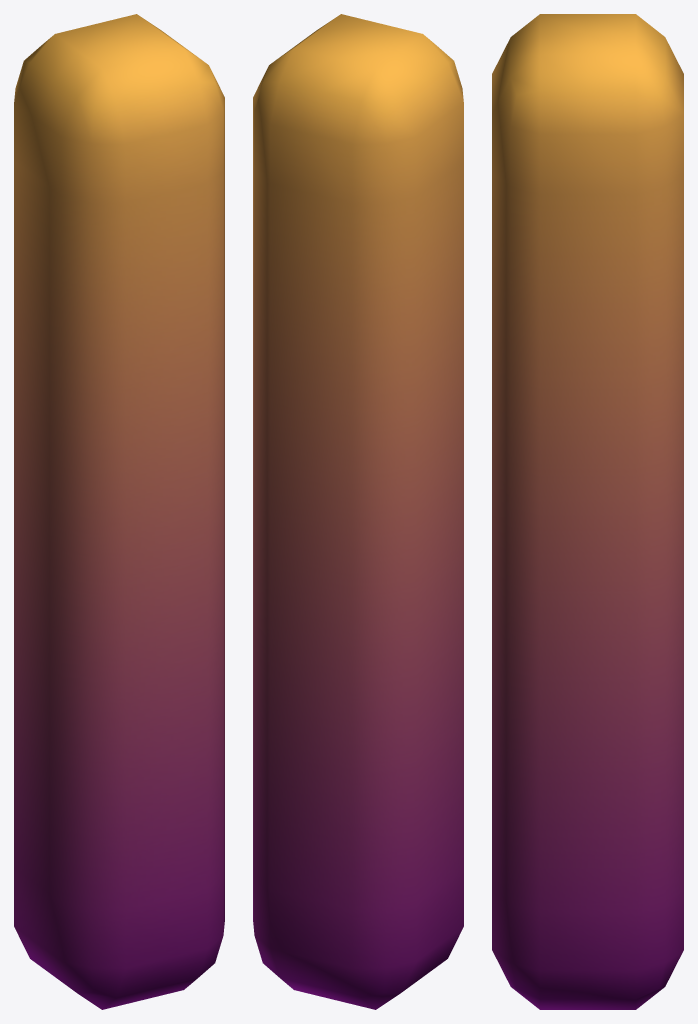
The model's file is player.obj.
The picture shows the model from 3 angles, left to right: view 1: azimuth 30°, elevation 25°; view 2: azimuth 150°, elevation 25°; view 3: azimuth 270°, elevation 25°; orthographic projection.
Visible parts, largest first — view 1: Cube; view 2: Cube; view 3: Cube.
Part boxes in pixels (box(x1,y1,x2,y2)): Cube: box(14, 14, 224, 1009); Cube: box(253, 14, 463, 1009); Cube: box(492, 14, 683, 1009).
Size of the model in its own units: 4 by 22 by 4.
Materials: 1 (1 with a texture image).
